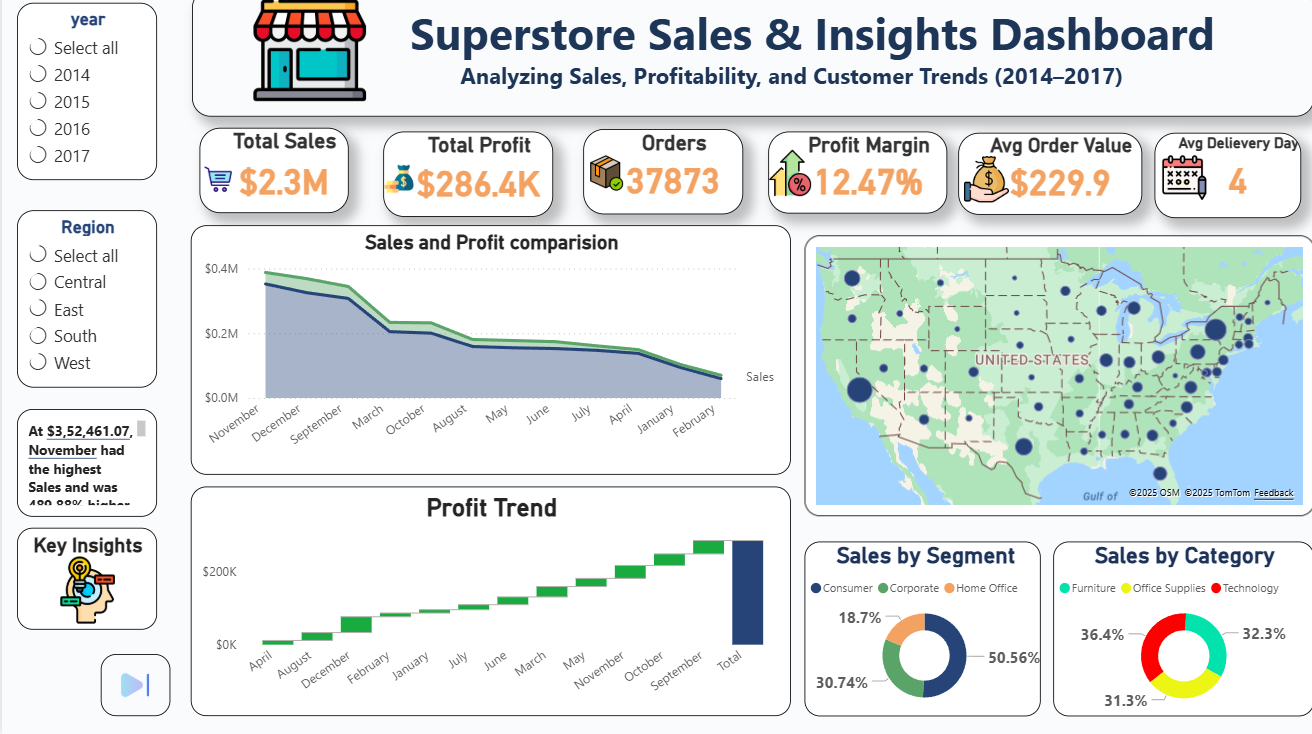

The dashboard page shown, as its layout file describes it:
{"tool":"powerbi","page":{"name":"Overview","canvas":[1280,720],"ordinal":0},"visuals":[{"type":"textbox","box":[183.4,0,1083.4,123.1],"z":0},{"type":"card","title":"     Total Sales","fields":{"Values":["Sample - Superstore.total sales"]},"box":[190.3,134.1,144.1,82.2],"z":1000},{"type":"image","box":[190.3,154.2,36,59.1],"z":2000},{"type":"card","title":"     Total Profit","fields":{"Values":["Sample - Superstore.total profit"]},"box":[367.6,136.9,164.3,82.2],"z":3000},{"type":"image","box":[364.7,152.8,37.5,60.5],"z":4000},{"type":"card","title":"     Orders","fields":{"Values":["Sum(Sample - Superstore.Quantity)"]},"box":[560.7,135.5,154.2,82.2],"z":5000},{"type":"image","box":[560.7,142.7,44.7,70.6],"z":6000},{"type":"image","box":[190.6,0,212.3,118.2],"z":7000},{"type":"card","title":"     Profit Margin","fields":{"Values":["Sample - Superstore.profit_margin%"]},"box":[739.5,136.9,173,79.3],"z":8000},{"type":"card","title":" Avg Order Value","fields":{"Values":["Sample - Superstore.avg_order_value"]},"box":[922.5,138.4,177.3,79.3],"z":9000},{"type":"image","box":[922.5,145.6,54.8,75],"z":10000},{"type":"image","box":[733.7,136.9,54.8,80.7],"z":11000},{"type":"donutChart","title":"Sales by Category","fields":{"Category":["Sample - Superstore.Category"],"Y":["Sample - Superstore.total sales"]},"box":[1014.8,533.3,252.3,168.6],"z":12000},{"type":"donutChart","title":"Sales by Segment","fields":{"Y":["Sample - Superstore.total sales"],"Category":["Sample - Superstore.Segment"]},"box":[774.1,533.3,227.7,168.6],"z":13000},{"type":"listSlicer","fields":{"Values":["Sample - Superstore.Region"]},"box":[14.4,213.3,135.5,171.5],"z":14000},{"type":"azureMap","fields":{"Category":["Sample - Superstore.State"],"Size":["Sample - Superstore.total sales"]},"box":[774.1,237.8,493,271],"z":15000},{"type":"image","box":[95.3,641.8,67.6,60.3],"z":16000},{"type":"waterfallChart","title":" Profit Trend ","fields":{"Category":["Sample - Superstore.Month Name","Sample - Superstore.Order Date.Variation.Date Hierarchy.Year"],"Y":["Sum(Sample - Superstore.Profit)"]},"box":[181.6,480,579.5,222],"z":17000},{"type":"card","title":"Avg Delievery Day","fields":{"Values":["Avg(Sample - Superstore.ship_day)"]},"box":[1112.8,138.4,141.3,82.2],"z":18000},{"type":"image","box":[1112.8,155.7,57.7,53.3],"z":19000},{"type":"stackedAreaChart","title":"Sales and  Profit comparision","fields":{"Category":["Sample - Superstore.Month Name"],"Y":["Sum(Sample - Superstore.Sales)","Sum(Sample - Superstore.Profit)"]},"box":[181.6,227.7,579.5,240.7],"z":20000},{"type":"listSlicer","fields":{"Values":["Sample - Superstore.year"]},"box":[14.4,13,135.5,171.5],"z":21000},{"type":"textbox","box":[14.4,405,135.5,103.8],"z":22000},{"type":"textbox","title":"Key Insights ","box":[14.4,520.4,135.5,98],"z":23000},{"type":"image","box":[41.8,543.4,80.7,75],"z":24000}]}

Visuals, with their boxes in screenshot pixels (x1, y1, x2, y2), scaled from the page's 1280x720 canvas onto the 1312x734 screenshot:
textbox: <bbox>188, 0, 1298, 125</bbox>
"     Total Sales" card: <bbox>195, 137, 343, 221</bbox>
image: <bbox>195, 157, 232, 217</bbox>
"     Total Profit" card: <bbox>377, 140, 545, 223</bbox>
image: <bbox>374, 156, 412, 217</bbox>
"     Orders" card: <bbox>575, 138, 733, 222</bbox>
image: <bbox>575, 145, 621, 217</bbox>
image: <bbox>195, 0, 413, 120</bbox>
"     Profit Margin" card: <bbox>758, 140, 935, 220</bbox>
" Avg Order Value" card: <bbox>946, 141, 1127, 222</bbox>
image: <bbox>946, 148, 1002, 225</bbox>
image: <bbox>752, 140, 808, 222</bbox>
"Sales by Category" donutChart: <bbox>1040, 544, 1299, 716</bbox>
"Sales by Segment" donutChart: <bbox>793, 544, 1027, 716</bbox>
listSlicer - Sample - Superstore.Region: <bbox>15, 217, 154, 392</bbox>
azureMap - Sample - Superstore.State x Sample - Superstore.total sales: <bbox>793, 242, 1299, 519</bbox>
image: <bbox>98, 654, 167, 716</bbox>
" Profit Trend " waterfallChart: <bbox>186, 489, 780, 716</bbox>
"Avg Delievery Day" card: <bbox>1141, 141, 1285, 225</bbox>
image: <bbox>1141, 159, 1200, 213</bbox>
"Sales and  Profit comparision" stackedAreaChart: <bbox>186, 232, 780, 478</bbox>
listSlicer - Sample - Superstore.year: <bbox>15, 13, 154, 188</bbox>
textbox: <bbox>15, 413, 154, 519</bbox>
"Key Insights " textbox: <bbox>15, 531, 154, 630</bbox>
image: <bbox>43, 554, 126, 630</bbox>
